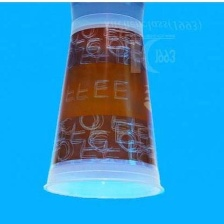glass: (38, 8, 169, 204)
